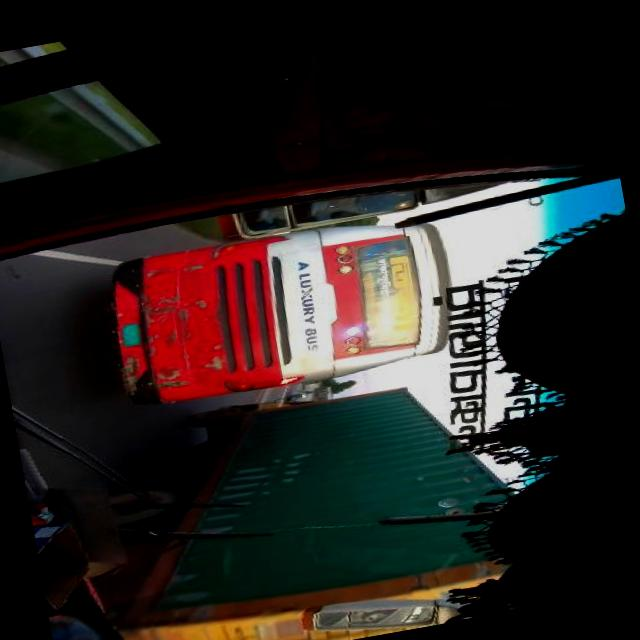bus: (105, 210, 462, 410)
truck: (90, 361, 527, 640)
